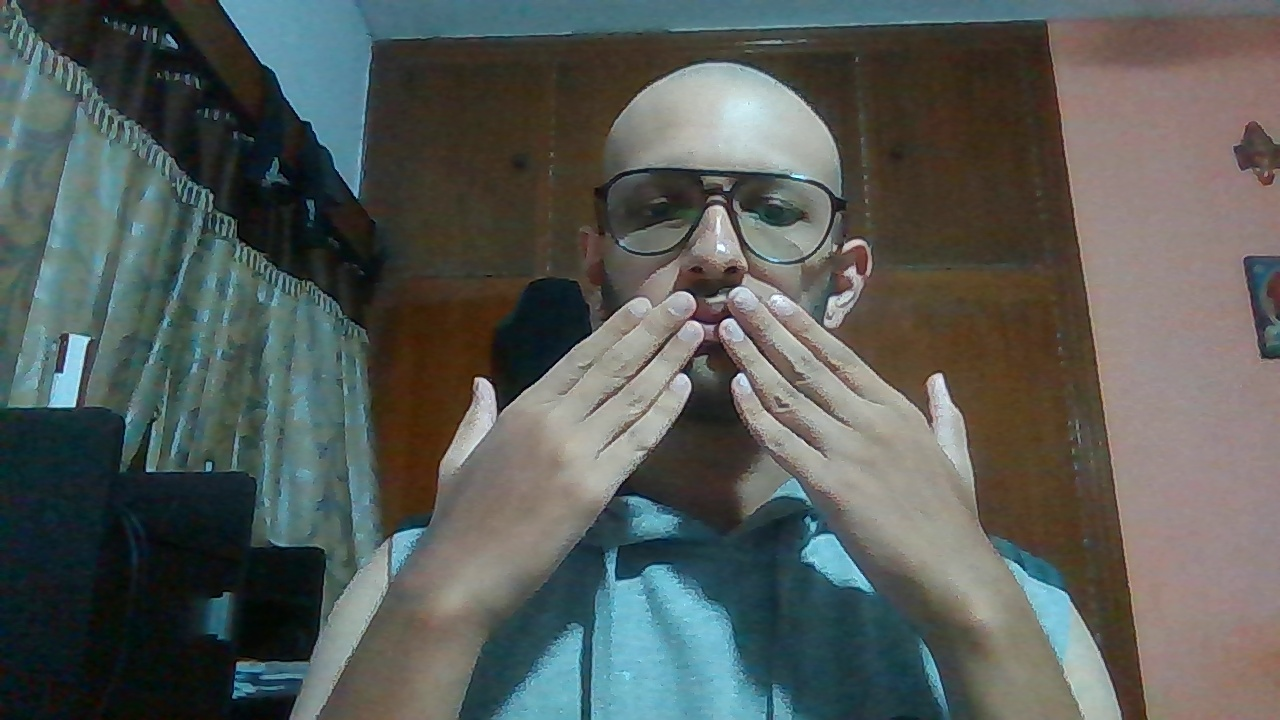Thank You: (432, 282, 1012, 575)
